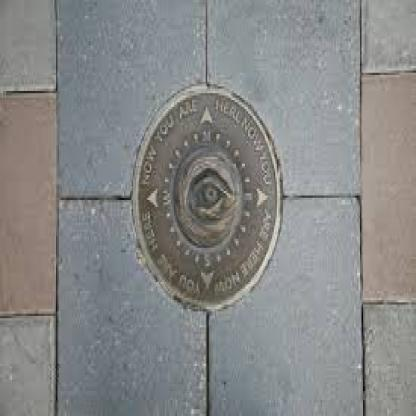manholes: (109, 57, 309, 341)
